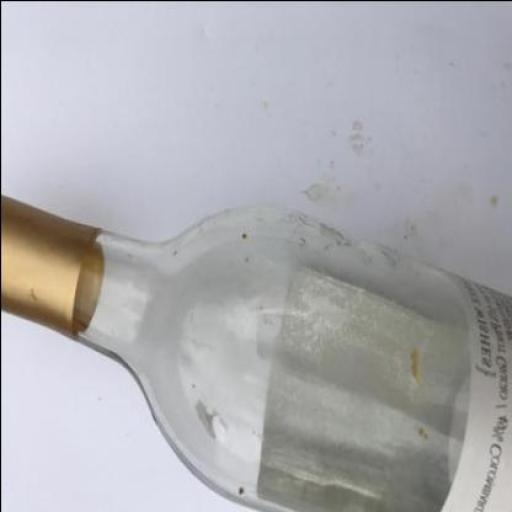glass: (1, 193, 512, 511)
